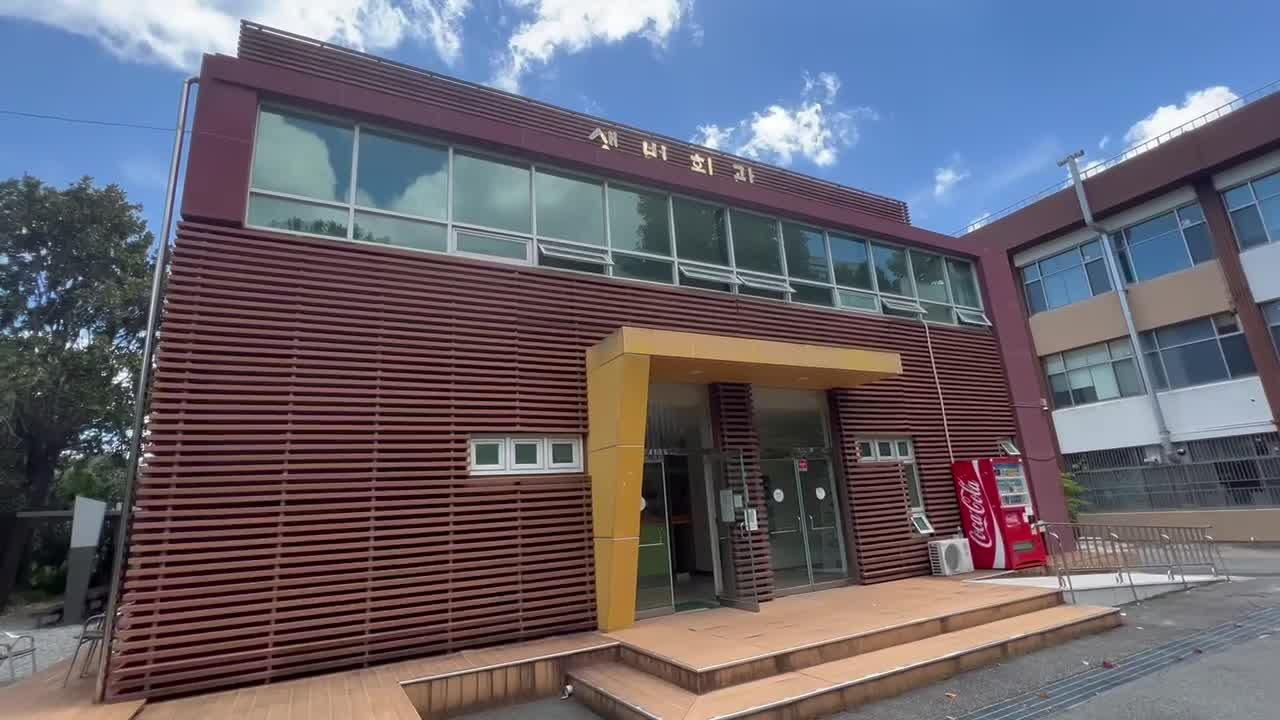building: (129, 36, 1016, 582)
